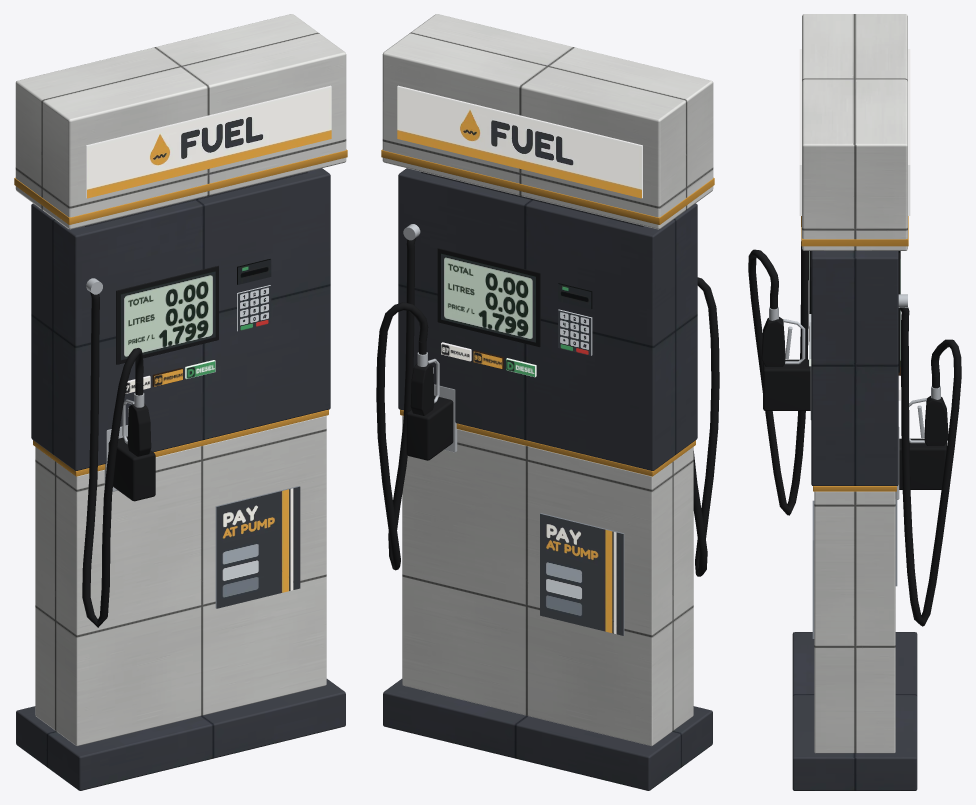
Rendered from vuena-gs-pump-modern.glb.
3 views of the same model, side by side, from view 1: azimuth 30°, elevation 25°; view 2: azimuth 150°, elevation 25°; view 3: azimuth 270°, elevation 25° (orthographic). The views are drawn at different scales.
Visible parts, largest first — view 1: gs_pump_modern, hose_F, nozzle_F; view 2: gs_pump_modern, hose_B, hose_F, nozzle_B; view 3: gs_pump_modern, hose_B, hose_F, nozzle_F, nozzle_B.
Part boxes in pixels (x1,y1,x2,y2): gs_pump_modern: (14,14,347,790); hose_F: (82,292,143,627); nozzle_F: (122,382,151,456); gs_pump_modern: (381,14,714,790); hose_B: (376,238,428,570); hose_F: (693,277,719,576); nozzle_B: (410,341,439,415); gs_pump_modern: (763,14,946,790); hose_B: (899,307,961,626); hose_F: (748,216,808,515); nozzle_F: (761,296,805,366); nozzle_B: (909,375,948,445).
Bounding box in the file's own units: 1 × 2.3 × 0.6847.
6 materials, 3 textured.
